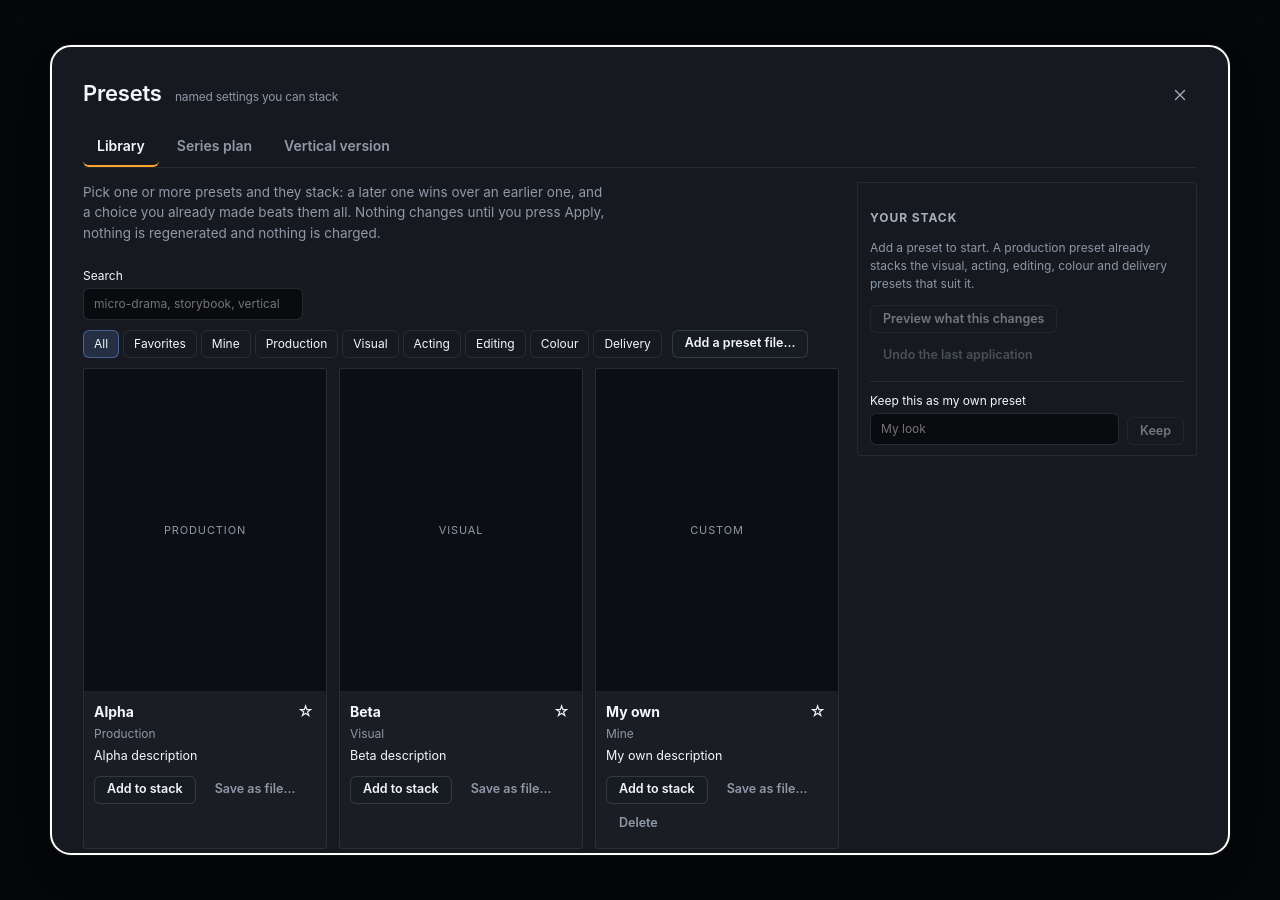
Test case: the presets sheet › stacks presets in order, previews with the stack and the replace choices, and applies exactly that
Click the button "Add to stack" below "Alpha description": x=145, y=790 [94, 776, 196, 804]
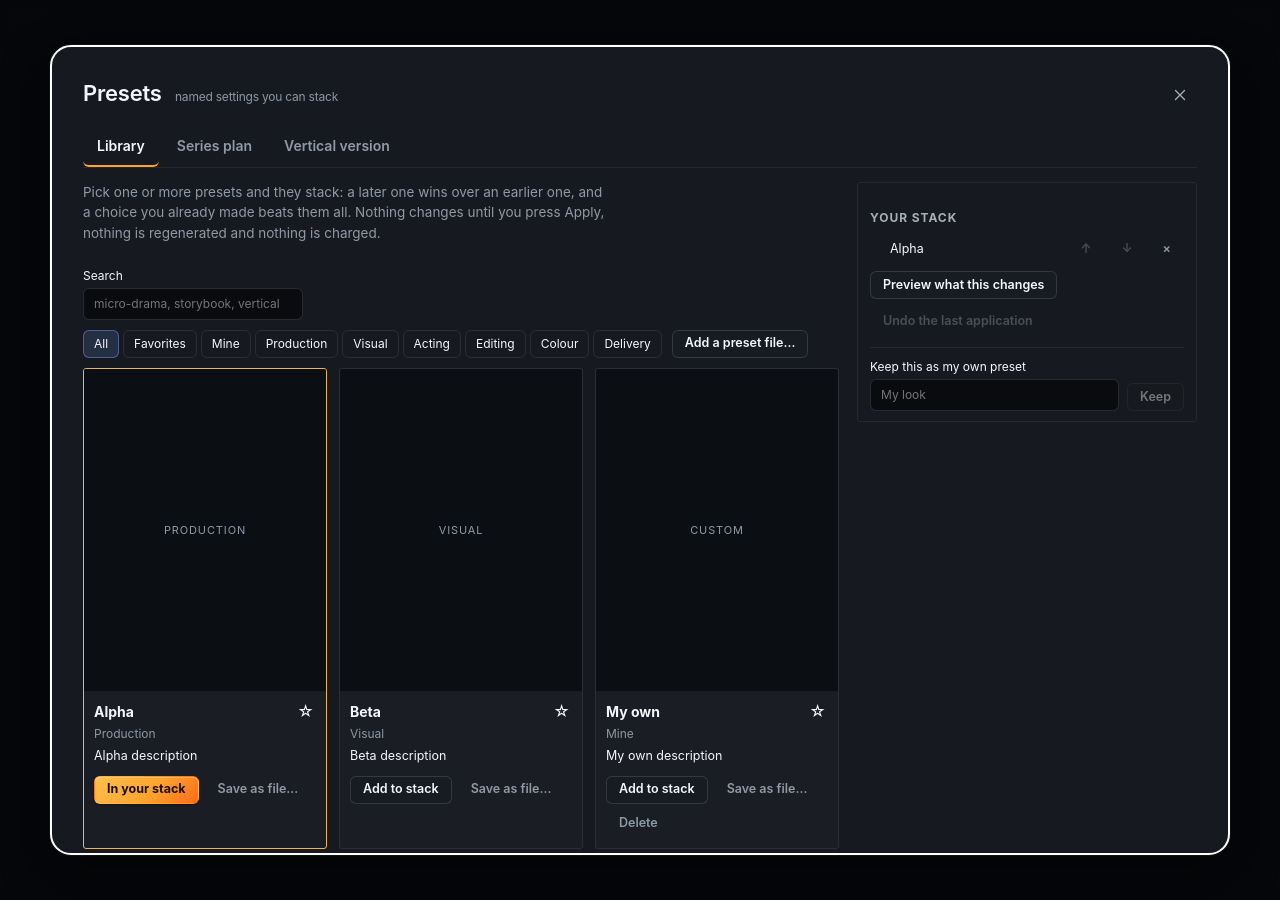
Click the button "Add to stack" below "Beta description": x=401, y=790 [350, 776, 452, 804]
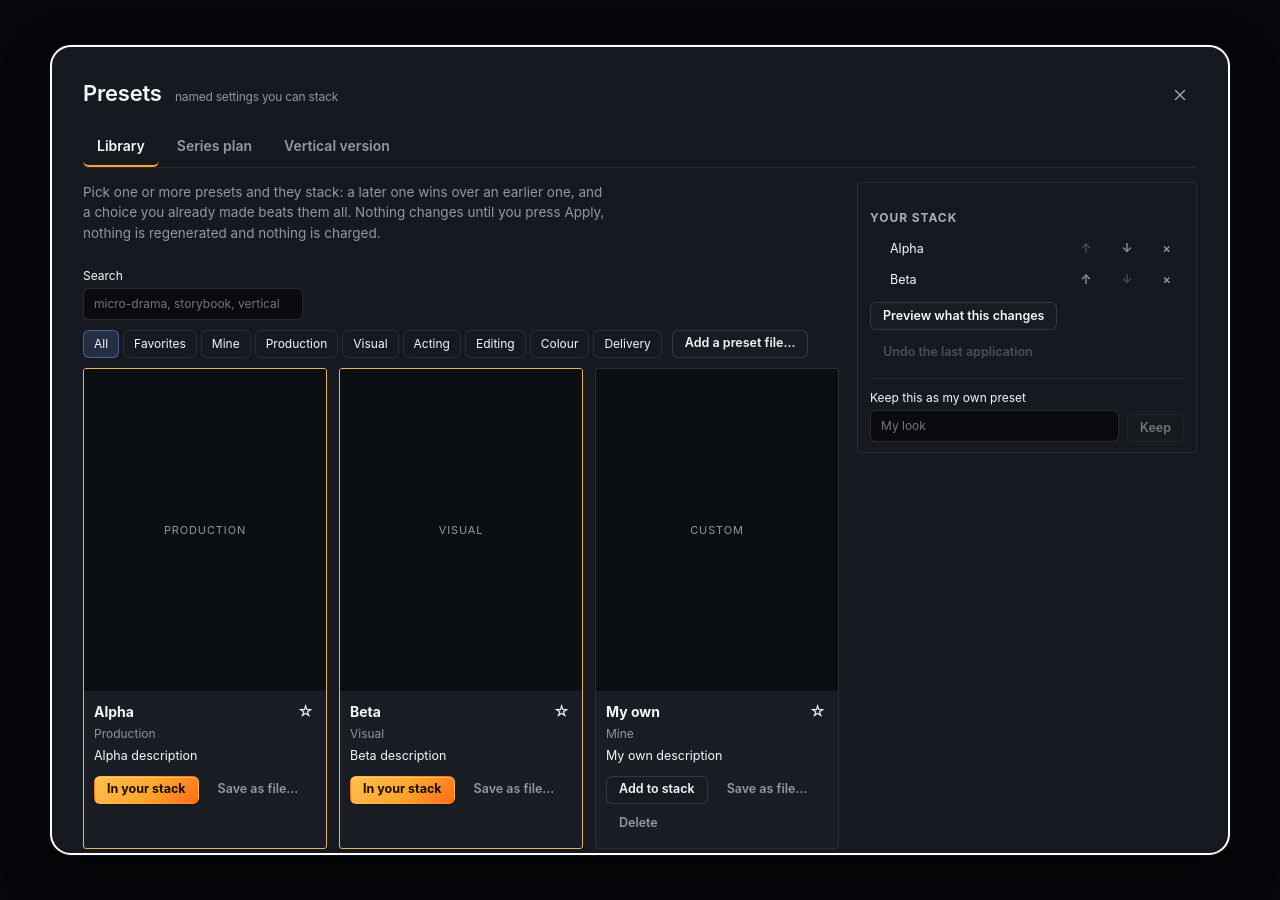
Click the button named "Move Beta earlier": x=1086, y=280 [1068, 266, 1104, 294]
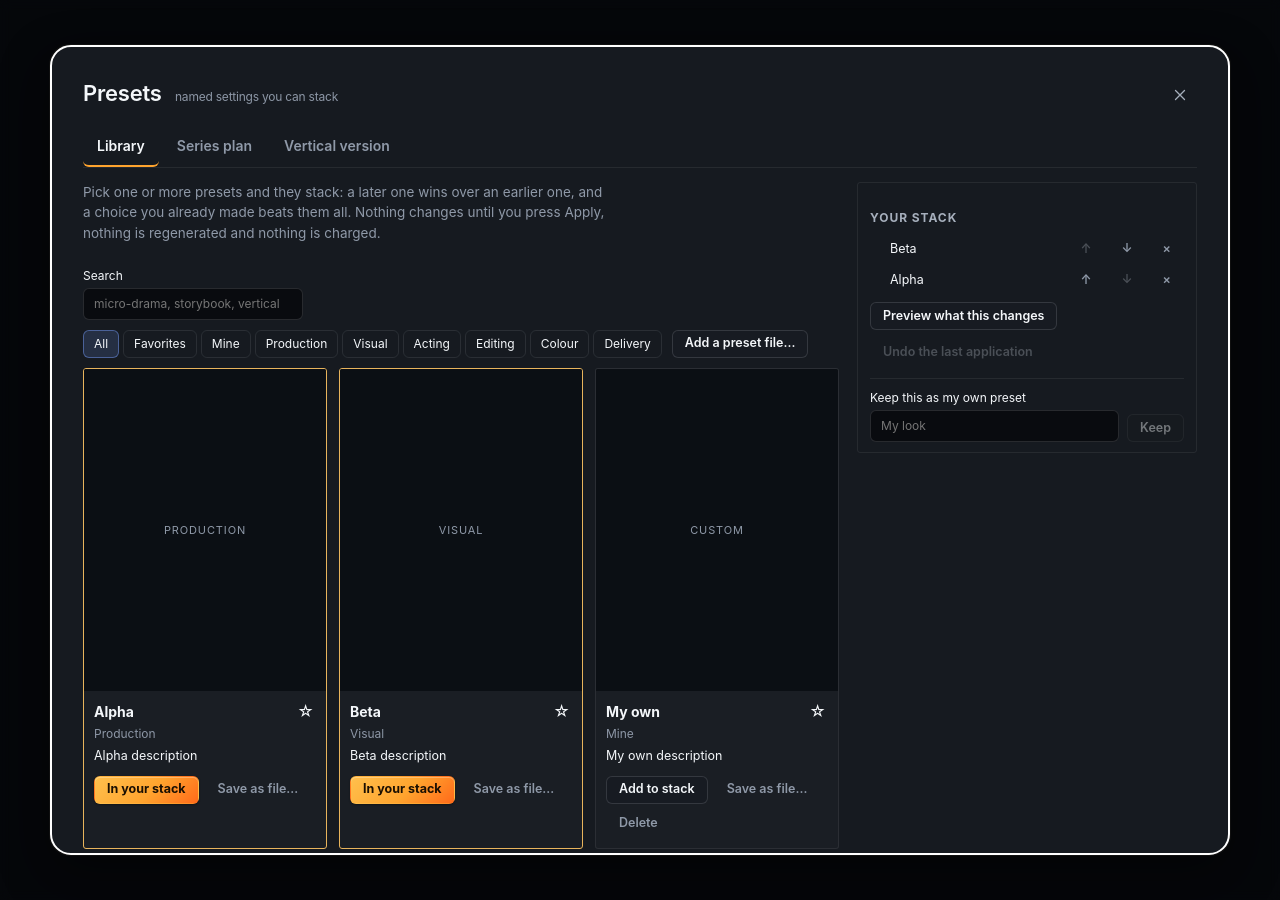
Click the button "Preview what this changes": x=964, y=316 [870, 302, 1058, 330]
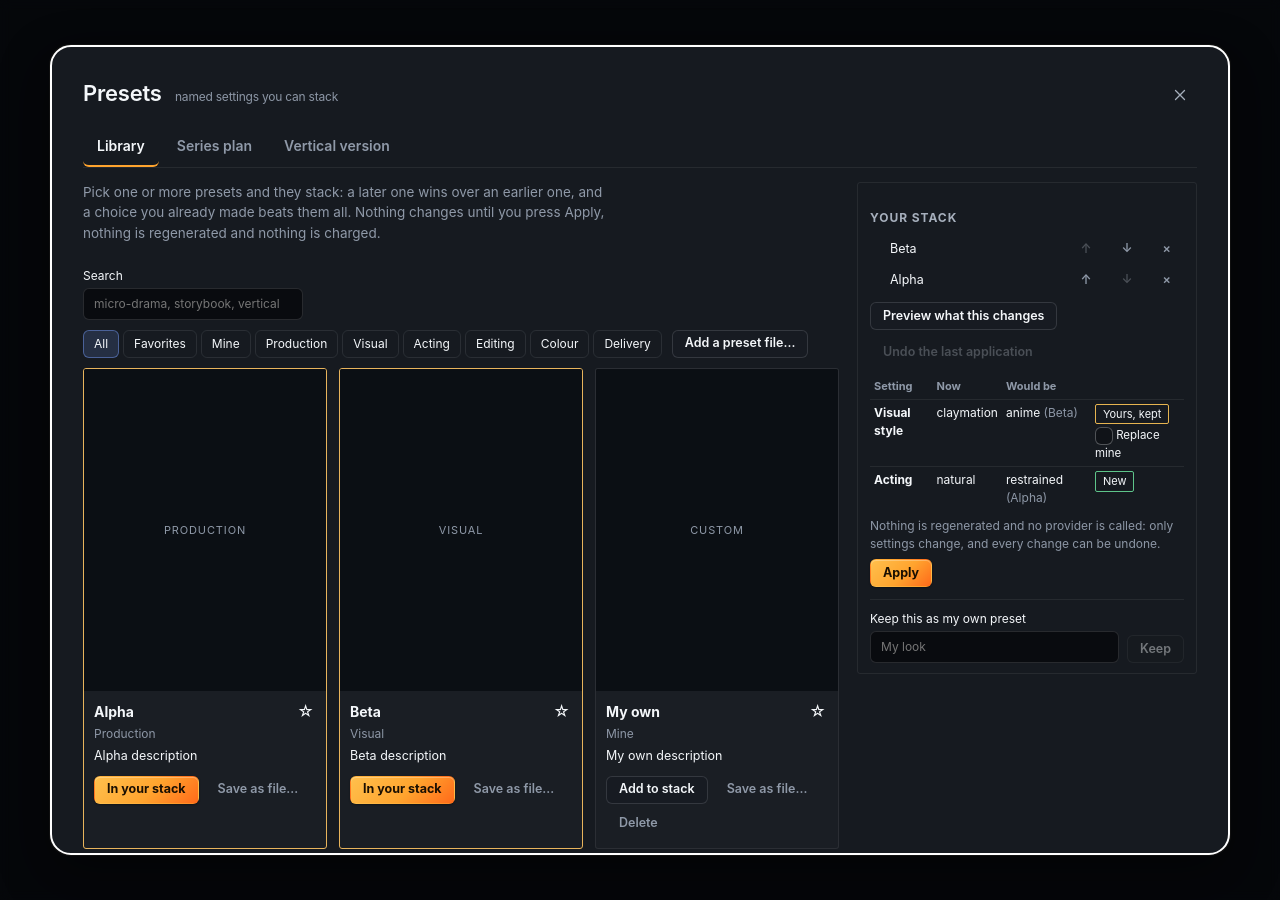
Result: the row "Visual style" shows "Yours, kept" at [1103, 406, 1161, 420]
Result: the row "Acting natural restrained (Alpha) New" is shown at [870, 467, 1184, 511]
Click the checkbox labelled "Replace mine": x=1104, y=436 [1095, 427, 1113, 445]
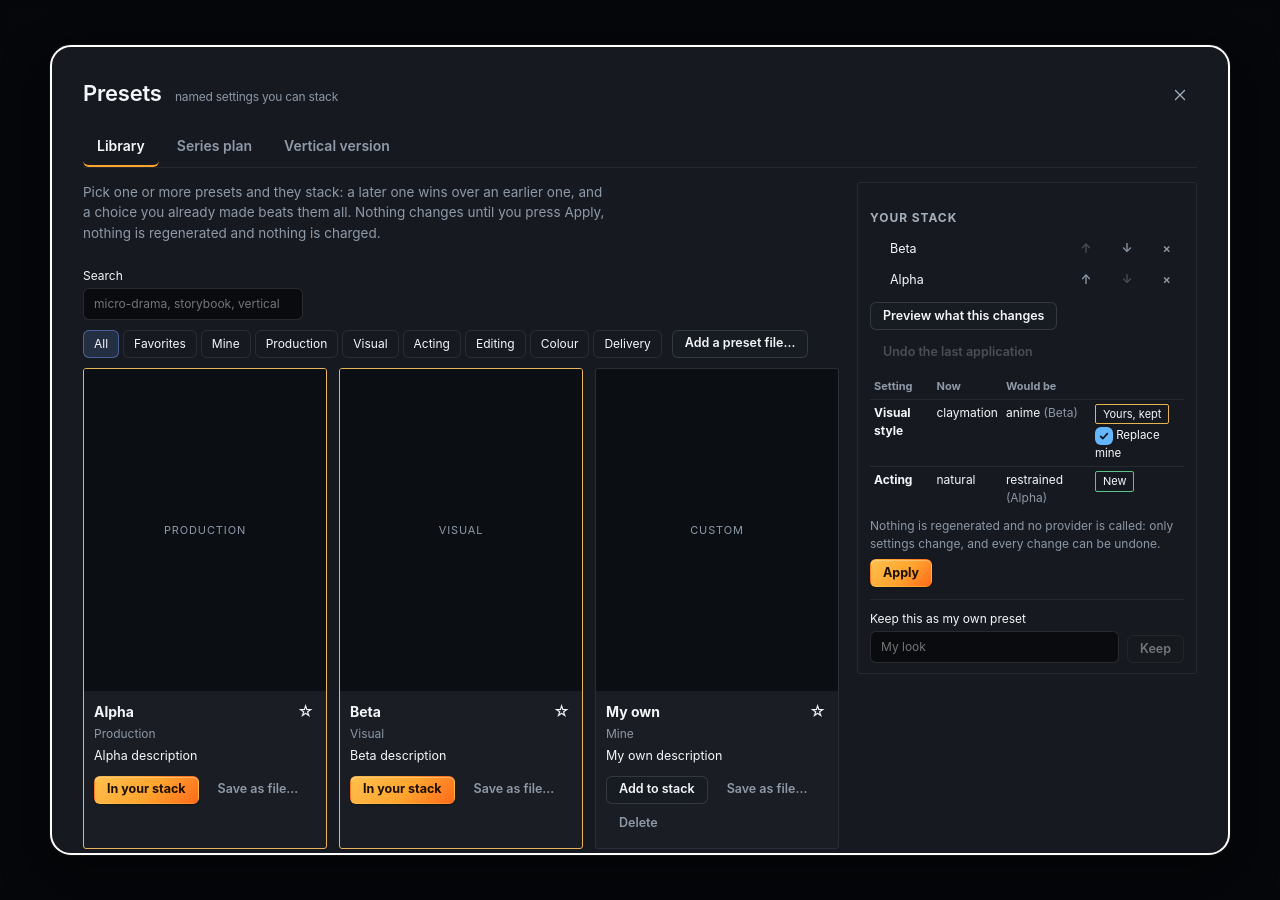
Click the button "Apply": x=901, y=573 [870, 559, 932, 587]
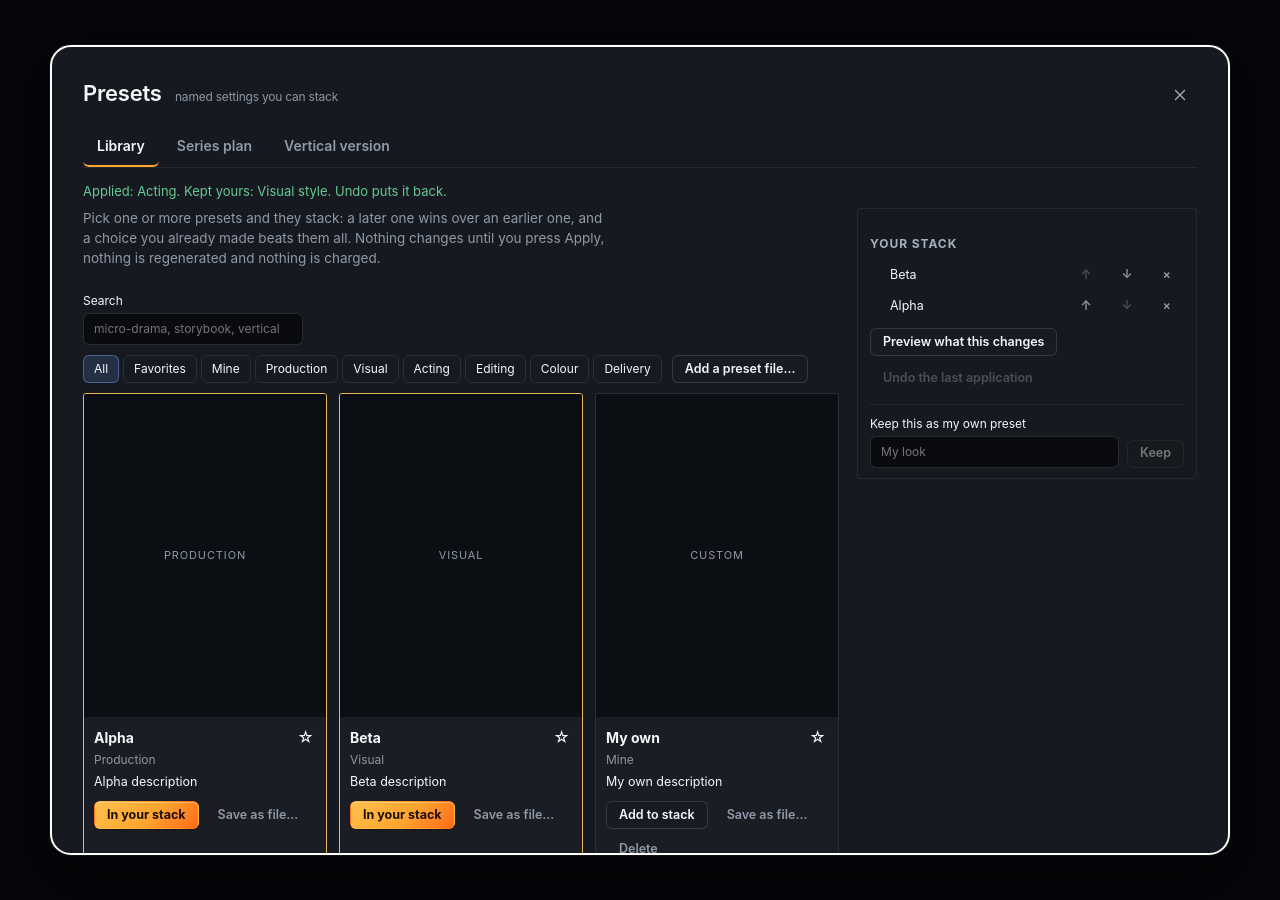
Result: the text "Applied: Acting. Kept yours: Visual style. Undo puts it back." is shown at [83, 183, 447, 199]
